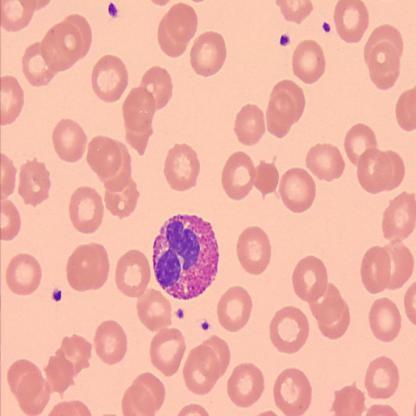Eosinophil: (153, 210, 224, 301)
